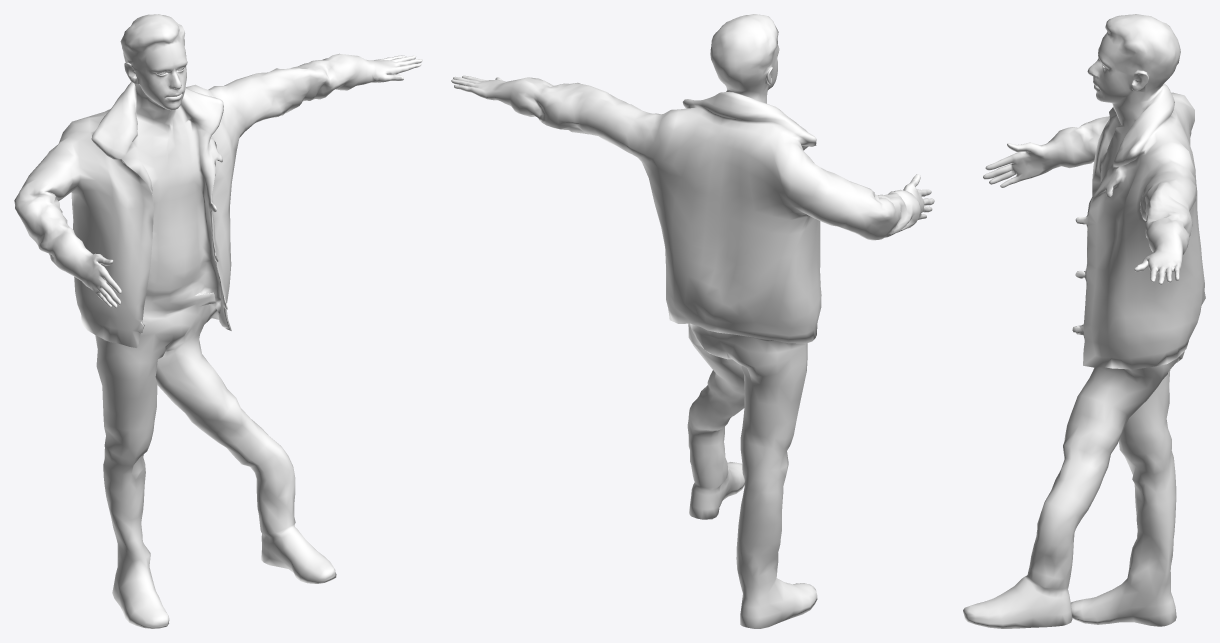
The model's file is Cesar_D_LaTorre_Jacket.fbx.
The picture shows the model from 3 angles, left to right: view 1: azimuth 30°, elevation 25°; view 2: azimuth 150°, elevation 25°; view 3: azimuth 270°, elevation 25°; orthographic projection. The views are drawn at different scales.
Visible parts, largest first — view 1: __ld59_export_tmp__; view 2: __ld59_export_tmp__; view 3: __ld59_export_tmp__.
Boxes of the visible parts, bbox=[...] form: __ld59_export_tmp__: bbox=[14, 14, 422, 628]; __ld59_export_tmp__: bbox=[451, 14, 934, 628]; __ld59_export_tmp__: bbox=[963, 14, 1205, 628].
Size of the model in its own units: 13784 by 18391 by 6590.
Materials: 1 (1 with a texture image).
